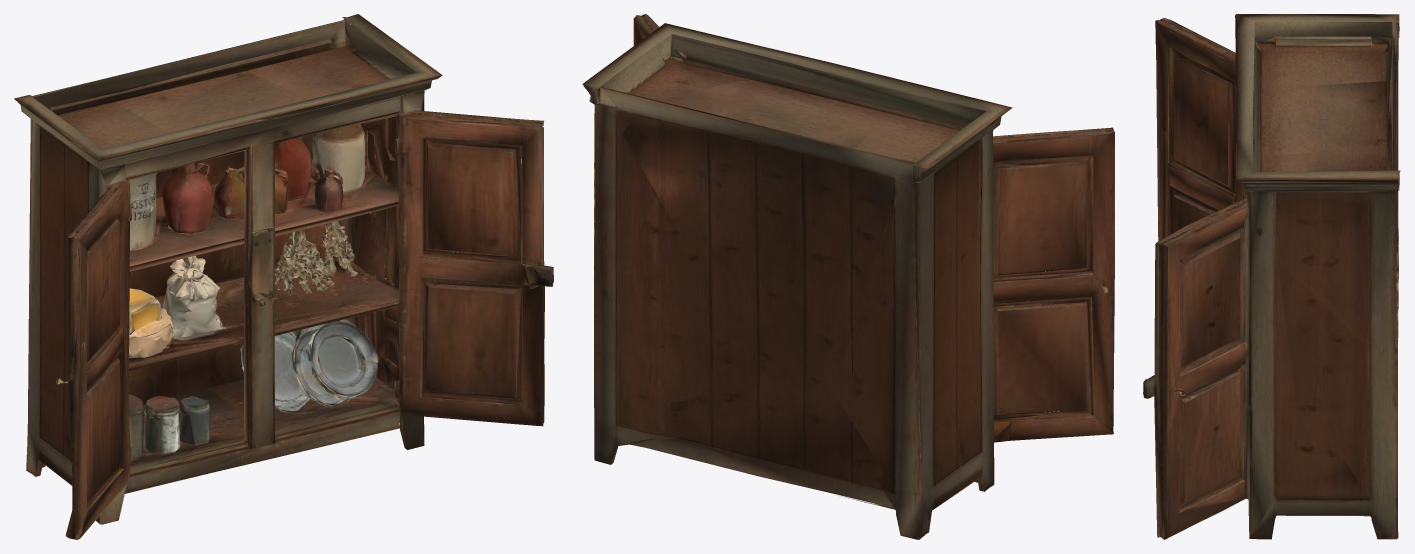
File: int-pantry-cupboard-stocked.glb
3 views of the same model, side by side, from view 1: azimuth 30°, elevation 25°; view 2: azimuth 150°, elevation 25°; view 3: azimuth 270°, elevation 25° (orthographic). The views are drawn at different scales.
Parts seen in each view (by area): view 1: Mesh_0; view 2: Mesh_0; view 3: Mesh_0.
Boxes of the visible parts, x1,y1,x2,y2 form: Mesh_0: (14,14,553,539); Mesh_0: (582,14,1114,539); Mesh_0: (1143,14,1400,539).
Bounding box in the file's own units: 1.9 × 1.41 × 0.8994.
1 material, 1 textured.
